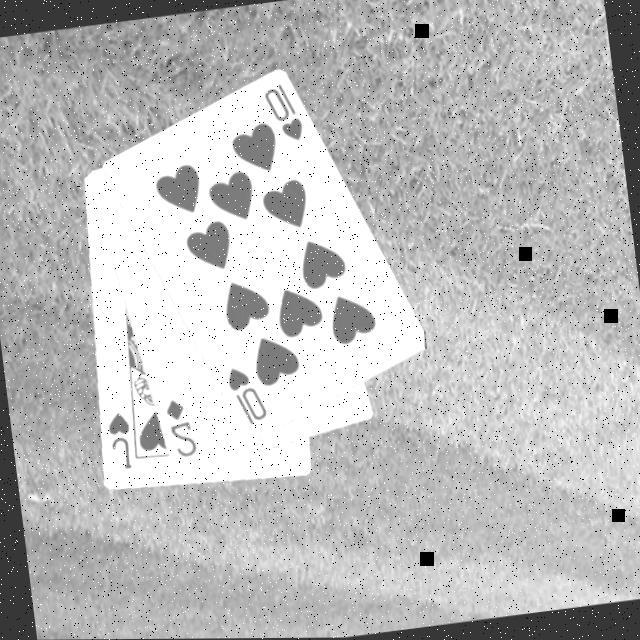10H: (221, 362, 271, 432), (257, 80, 307, 150)
2D: (160, 396, 200, 464)
JH: (102, 410, 135, 475)
